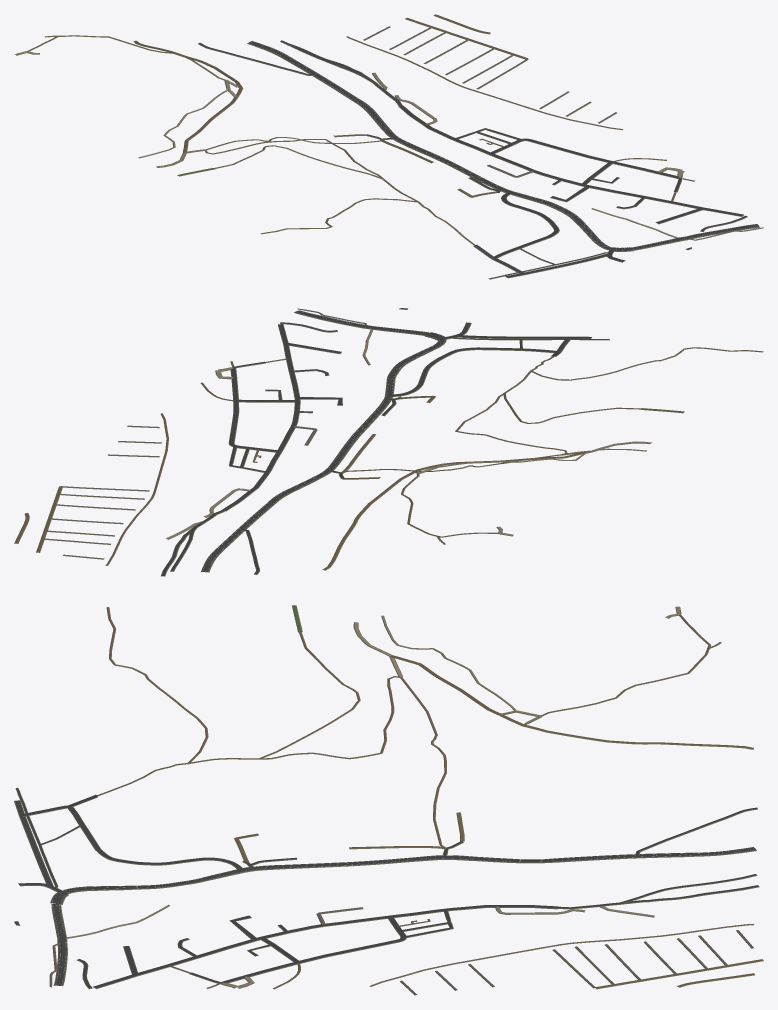
The picture shows the model from 3 angles, top to bottom: view 1: azimuth 30°, elevation 25°; view 2: azimuth 150°, elevation 25°; view 3: azimuth 270°, elevation 25°; orthographic projection. The views are drawn at different scales.
Visible parts, largest first — view 1: roads; view 2: roads; view 3: roads.
Part boxes in pixels (<box>): roads: <box>14,14,763,279</box>; roads: <box>14,308,763,576</box>; roads: <box>14,605,763,995</box>.
Bounding box in the file's own units: 719 × 134 × 813.
